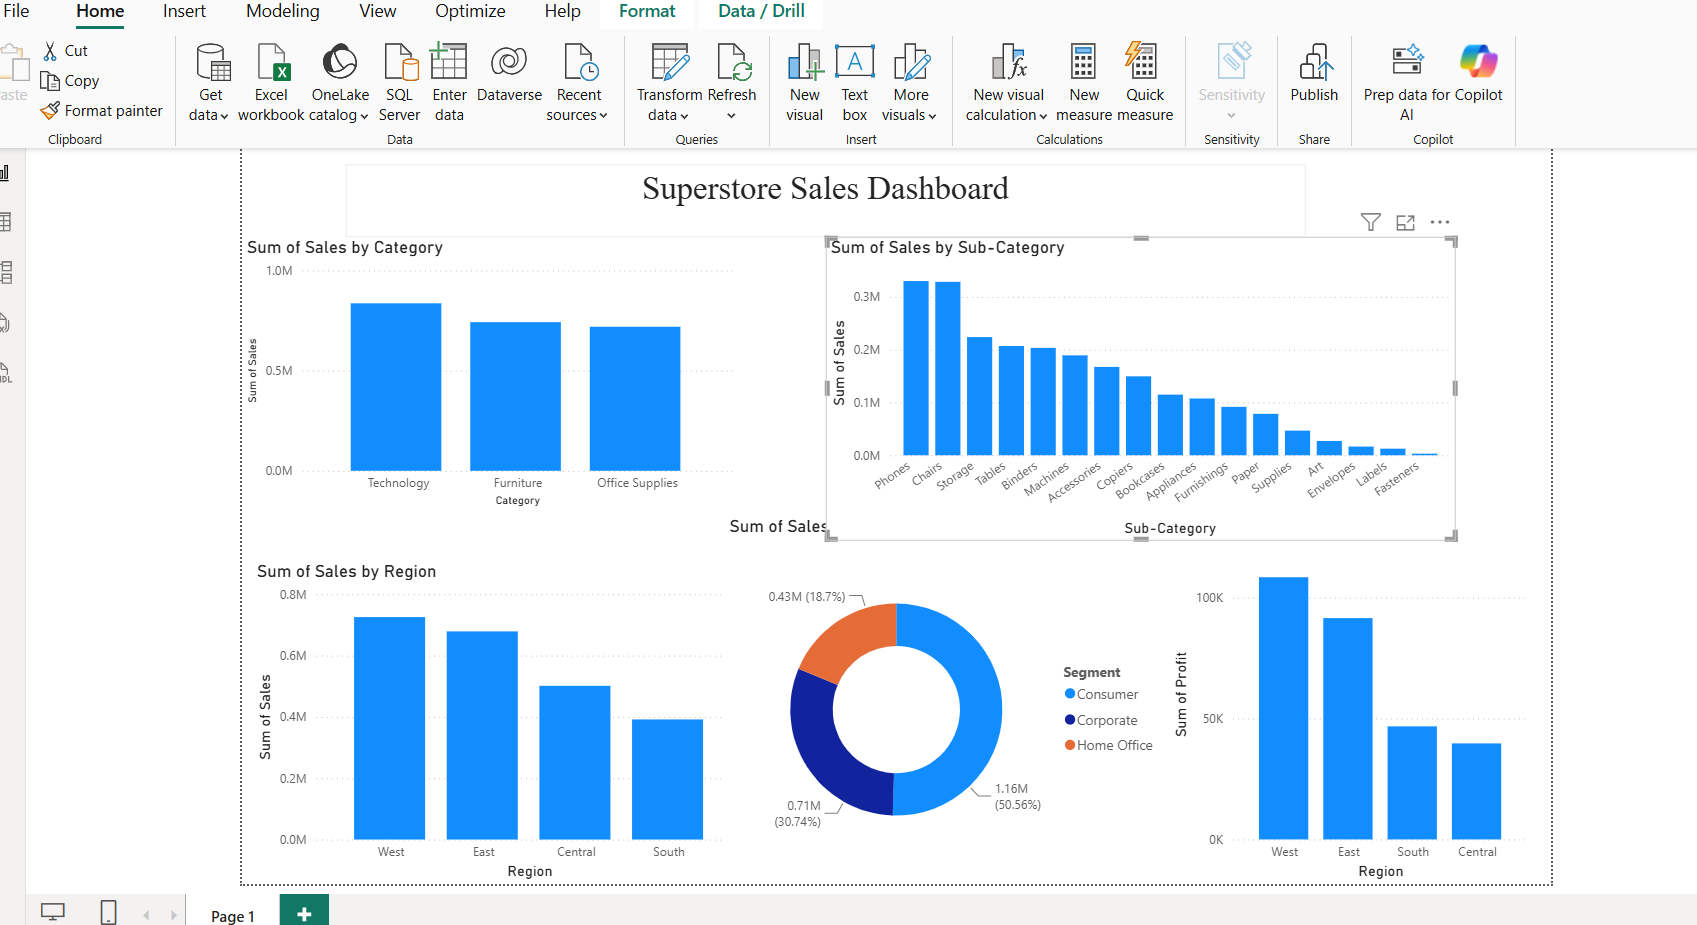

The dashboard page shown, as its layout file describes it:
{"tool":"powerbi","page":{"name":"Page 1","canvas":[1280,720],"ordinal":0},"visuals":[{"type":"clusteredColumnChart","fields":{"Category":["SampleSuperstore.Category"],"Y":["Sum(SampleSuperstore.Sales)"]},"box":[0,86.4,485.8,269],"z":0},{"type":"clusteredColumnChart","fields":{"Y":["Sum(SampleSuperstore.Sales)"],"Category":["SampleSuperstore.Region"]},"box":[9.6,403.4,485.8,317],"z":1000},{"type":"donutChart","fields":{"Y":["Sum(SampleSuperstore.Sales)"],"Category":["SampleSuperstore.Segment"]},"box":[472,359.5,433.6,360.9],"z":2000},{"type":"clusteredColumnChart","fields":{"Category":["SampleSuperstore.Sub-Category"],"Y":["Sum(SampleSuperstore.Sales)"]},"box":[570.8,86.4,616.1,297.8],"z":3000},{"type":"clusteredColumnChart","fields":{"Y":["Sum(SampleSuperstore.Profit)"],"Category":["SampleSuperstore.Region"]},"box":[905.7,359.5,358.1,360.9],"z":4000},{"type":"textbox","box":[101.5,16.5,938.6,70],"z":5000}]}

Visuals, with their boxes on the page's 1280x720 design canvas (x1, y1, x2, y2). These are canvas units, not pixel positions in the 1697x925 screenshot, which may show the page scaled, cropped or inside an application window:
clusteredColumnChart - SampleSuperstore.Category x Sum(SampleSuperstore.Sales): (left=0, top=86, right=486, bottom=355)
clusteredColumnChart - Sum(SampleSuperstore.Sales) x SampleSuperstore.Region: (left=10, top=403, right=495, bottom=720)
donutChart - Sum(SampleSuperstore.Sales) x SampleSuperstore.Segment: (left=472, top=360, right=906, bottom=720)
clusteredColumnChart - SampleSuperstore.Sub-Category x Sum(SampleSuperstore.Sales): (left=571, top=86, right=1187, bottom=384)
clusteredColumnChart - Sum(SampleSuperstore.Profit) x SampleSuperstore.Region: (left=906, top=360, right=1264, bottom=720)
textbox: (left=102, top=16, right=1040, bottom=86)
